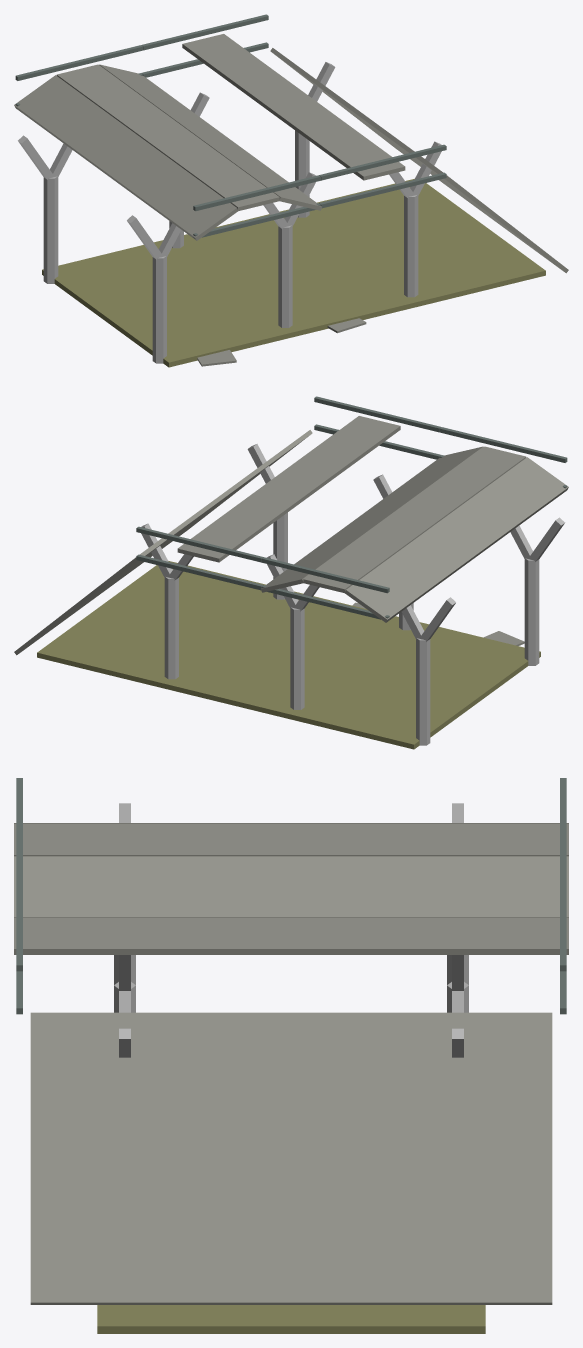
File: SM_MarquesinaBus_v1_Chapas_e1_Danado_LOD1.fbx
3 views of the same model, one above another, from view 1: azimuth 30°, elevation 25°; view 2: azimuth 150°, elevation 25°; view 3: azimuth 270°, elevation 25° (orthographic). The views are drawn at different scales.
Visible parts, largest first — view 1: SM_marquesina_bus_v5_LOD1; view 2: SM_marquesina_bus_v5_LOD1; view 3: SM_marquesina_bus_v5_LOD1.
Boxes of the visible parts, x1,y1,x2,y2 form: SM_marquesina_bus_v5_LOD1: (14, 14, 568, 367); SM_marquesina_bus_v5_LOD1: (14, 396, 568, 749); SM_marquesina_bus_v5_LOD1: (14, 778, 568, 1333).
Bounding box in the file's own units: 13.03 × 5.46 × 10.
